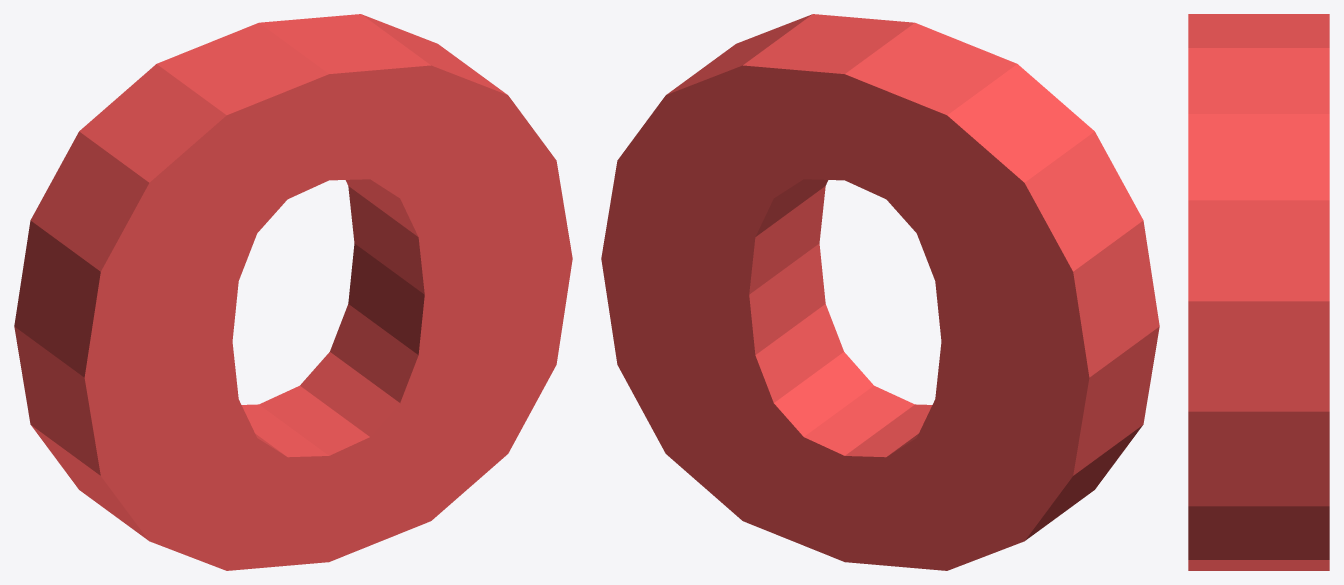
The model's file is huruf_kecil_o.glb.
3 renders of one model, left to right at view 1: azimuth 30°, elevation 25°; view 2: azimuth 150°, elevation 25°; view 3: azimuth 270°, elevation 25°, orthographic.
Parts seen in each view (by area): view 1: geometry_0; view 2: geometry_0; view 3: geometry_0.
Part boxes in pixels (box(x1,y1,x2,y2)): geometry_0: box(14, 14, 572, 570); geometry_0: box(601, 14, 1159, 570); geometry_0: box(1188, 14, 1329, 570).
Size of the model in its own units: 6.01 by 5.74 by 1.5.
